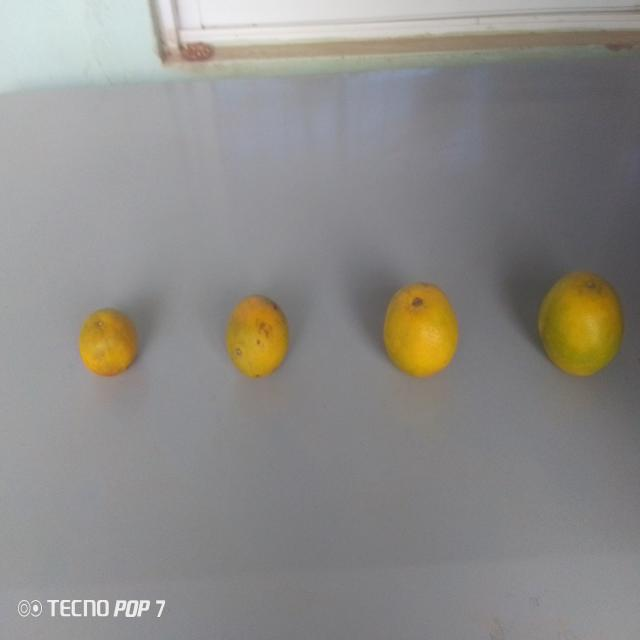Ripe orange: (530, 258, 624, 386), (380, 270, 463, 380), (225, 288, 292, 388), (77, 297, 140, 383)
